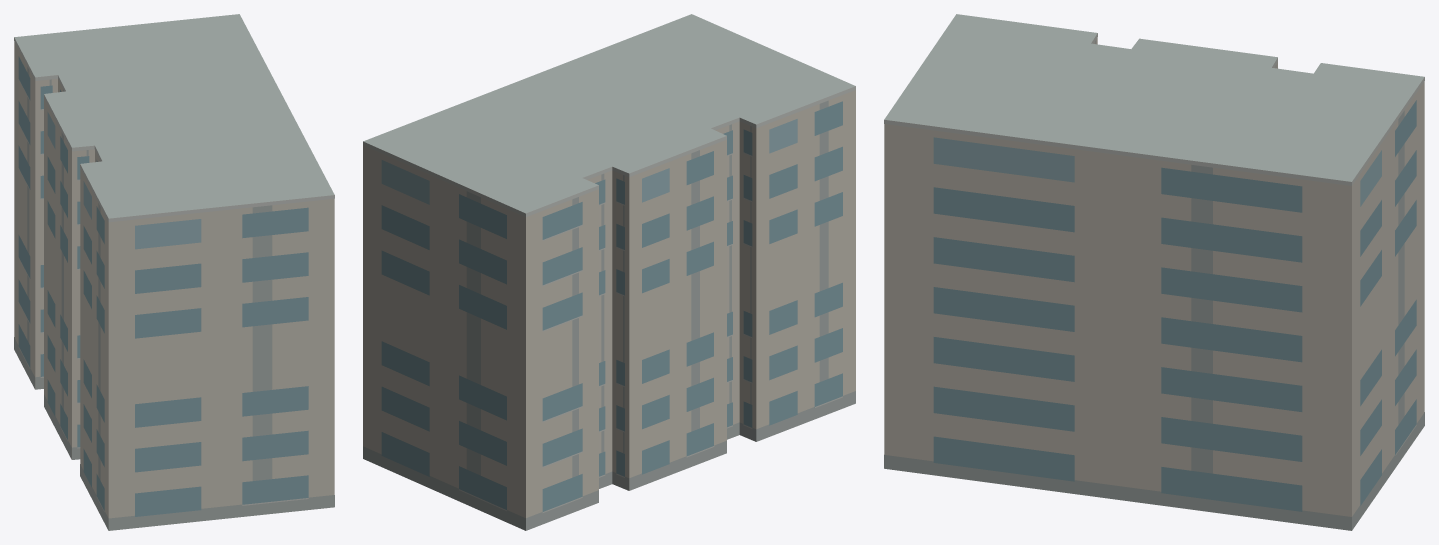
Rendered from survey-upis-32950646.glb.
The picture shows the model from 3 angles, left to right: view 1: azimuth 30°, elevation 25°; view 2: azimuth 150°, elevation 25°; view 3: azimuth 270°, elevation 25°; orthographic projection. The views are drawn at different scales.
Visible parts, largest first — view 1: survey-upis-32950646.tmp; view 2: survey-upis-32950646.tmp; view 3: survey-upis-32950646.tmp.
Part boxes in pixels (box(x1,y1,x2,y2)): survey-upis-32950646.tmp: box(14, 14, 334, 530); survey-upis-32950646.tmp: box(363, 14, 855, 530); survey-upis-32950646.tmp: box(884, 14, 1424, 530).
Size of the model in its own units: 21.06 by 20.4 by 28.66.
